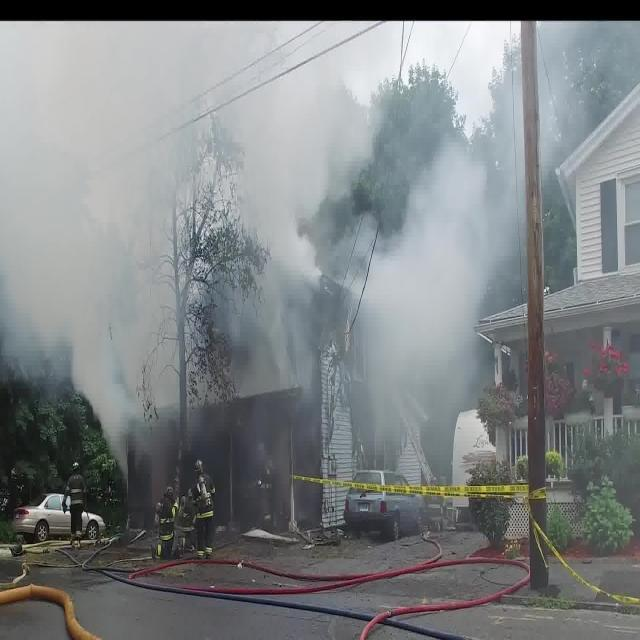Smoke: (1, 0, 640, 424)
